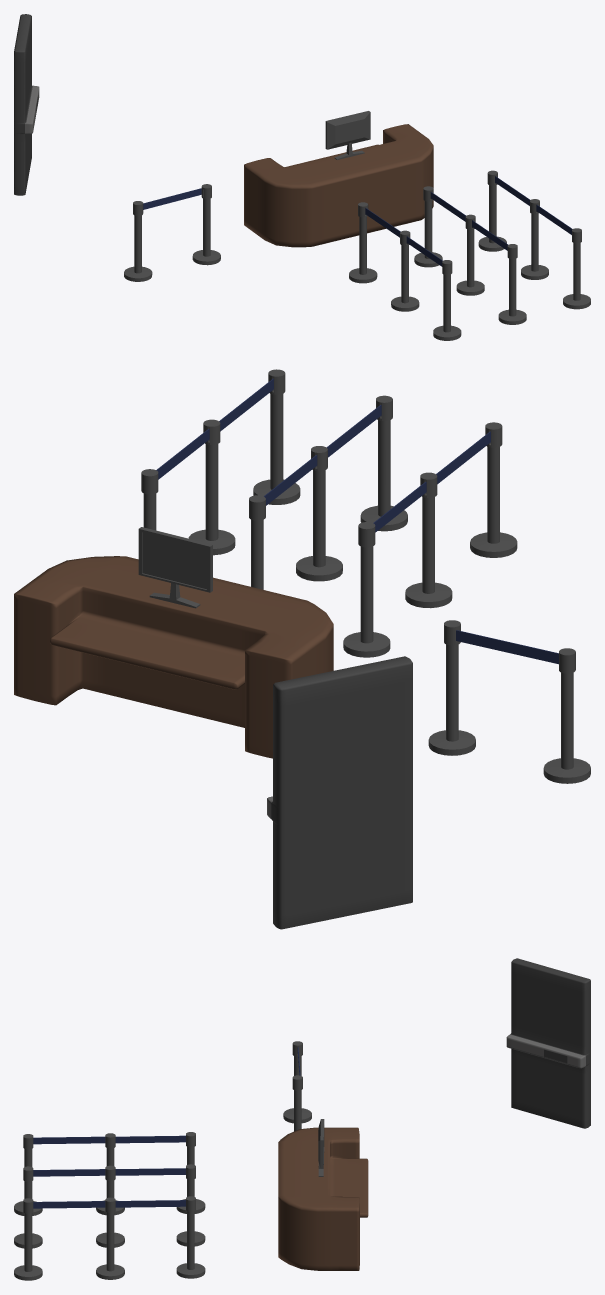
The model's file is Gate_Linedividers_desk.fbx.
The picture shows the model from 3 angles, top to bottom: view 1: azimuth 30°, elevation 25°; view 2: azimuth 150°, elevation 25°; view 3: azimuth 270°, elevation 25°; orthographic projection. The views are drawn at different scales.
Visible parts, largest first — view 1: pCube2, pCylinder12, pCube1, pCylinder13, pCube13, pCube12, pCube14; view 2: pCube2, pCube1, pCylinder12, pCylinder13, pCube13, pCube12, pCube14; view 3: pCube1, pCube2, pCube13, pCylinder13, pCylinder12, pCube12.
Part boxes in pixels (box(x1,y1,x2,y2)): pCube2: box(244, 124, 433, 247); pCylinder12: box(349, 202, 461, 340); pCube1: box(14, 14, 39, 195); pCylinder13: box(414, 186, 526, 324); pCube13: box(478, 170, 590, 309); pCube12: box(124, 184, 220, 281); pCube14: box(325, 111, 370, 159); pCube2: box(14, 556, 333, 758); pCube1: box(267, 656, 412, 929); pCylinder12: box(343, 422, 517, 657); pCylinder13: box(249, 395, 407, 589); pCube13: box(141, 369, 300, 555); pCube12: box(428, 620, 590, 783); pCube14: box(138, 527, 212, 608); pCube1: box(506, 958, 590, 1128); pCube2: box(278, 1127, 368, 1270); pCube13: box(14, 1196, 205, 1280); pCylinder13: box(14, 1164, 205, 1248); pCylinder12: box(14, 1132, 205, 1215); pCube12: box(283, 1041, 311, 1131).
Size of the model in its own units: 19.71 by 8.77 by 28.99.
